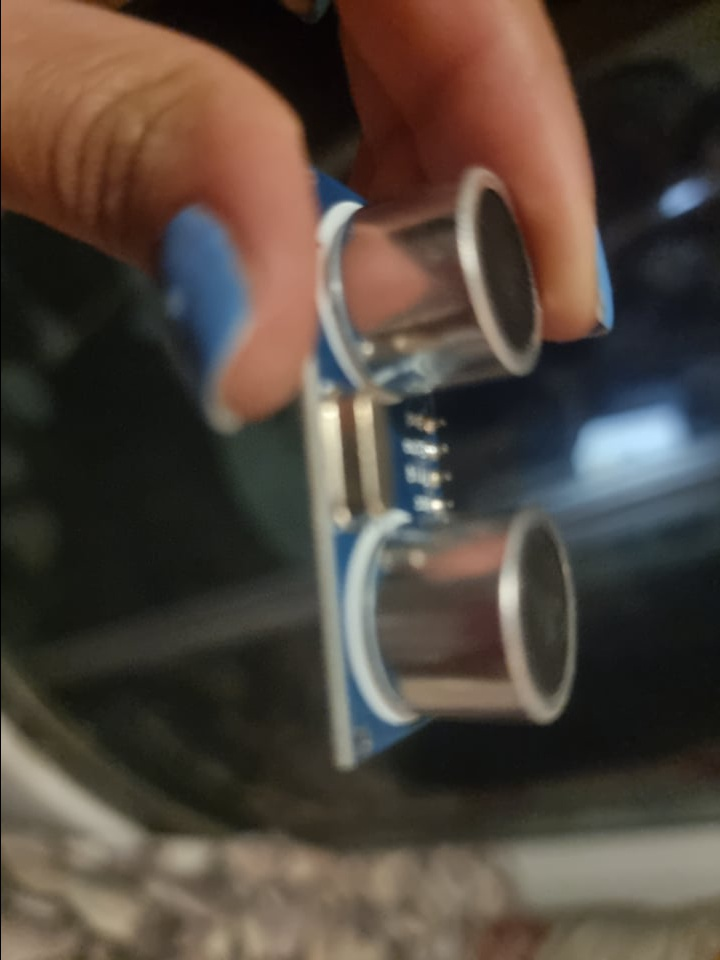SENSOR: (305, 159, 580, 773)
